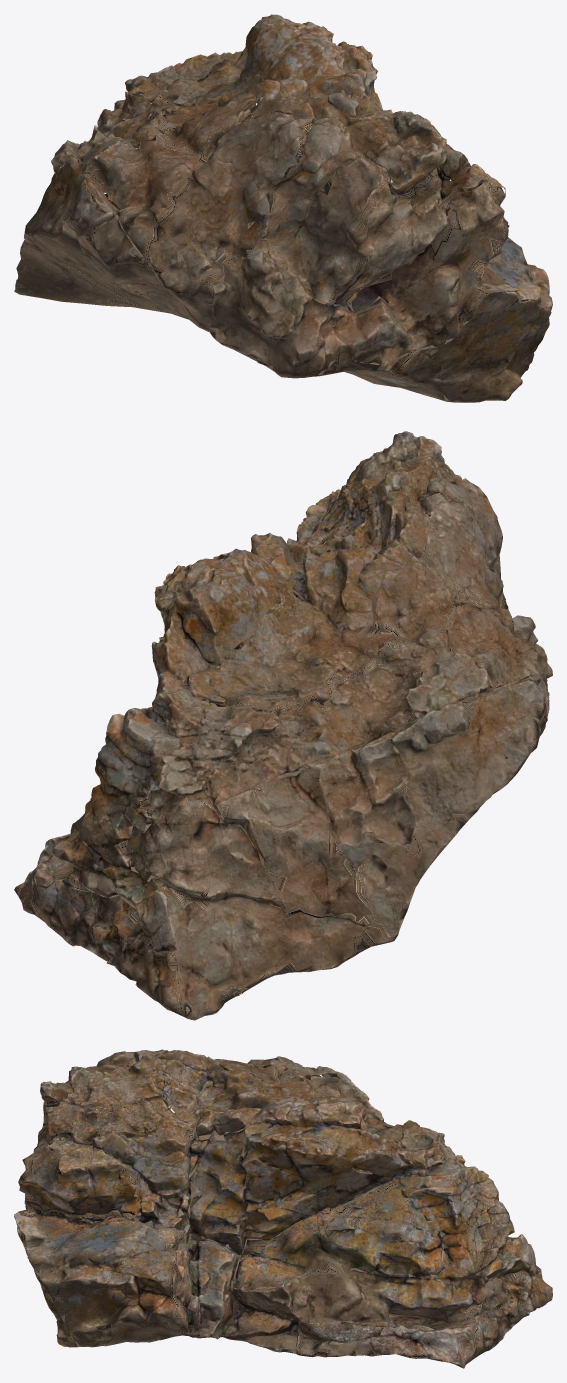
File: boulder_01.glb
The picture shows the model from 3 angles, top to bottom: view 1: azimuth 30°, elevation 25°; view 2: azimuth 150°, elevation 25°; view 3: azimuth 270°, elevation 25°; orthographic projection. The views are drawn at different scales.
Visible parts, largest first — view 1: boulder_01; view 2: boulder_01; view 3: boulder_01.
Boxes of the visible parts, left/top/right/bottom form: boulder_01: left=14, top=14, right=552, bottom=402; boulder_01: left=14, top=431, right=552, bottom=1020; boulder_01: left=14, top=1049, right=552, bottom=1368.
Bounding box in the file's own units: 1.27 × 1 × 1.83.
Materials: 1 (1 with a texture image).
